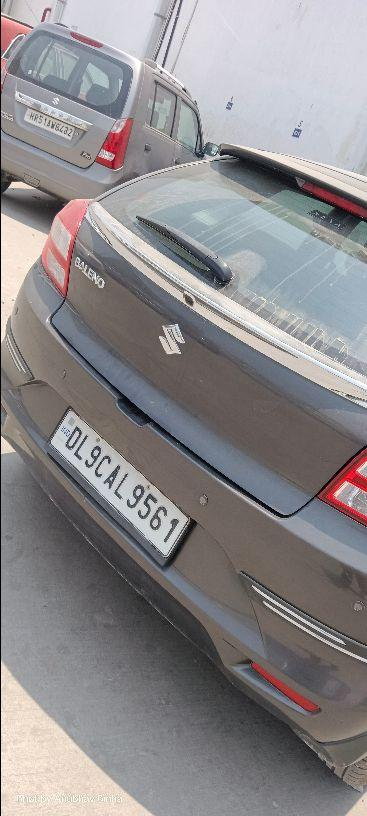license_plate: (46, 405, 193, 567), (22, 106, 79, 142)
